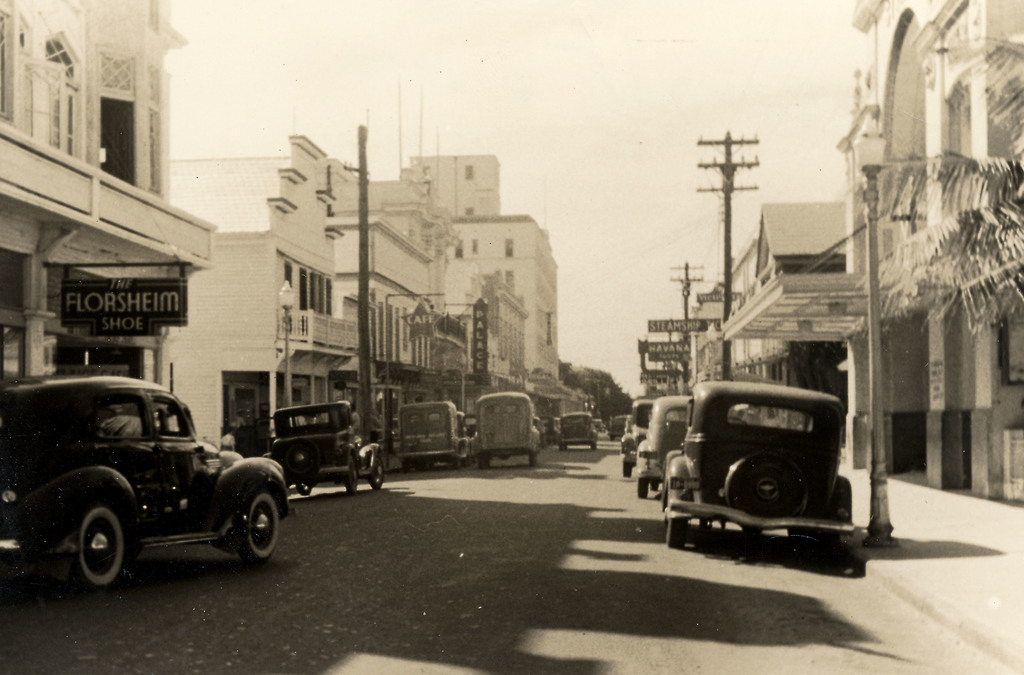Car: (8, 374, 293, 601), (620, 393, 853, 560), (266, 404, 389, 496), (394, 397, 473, 471), (468, 388, 536, 461), (556, 413, 598, 451)
